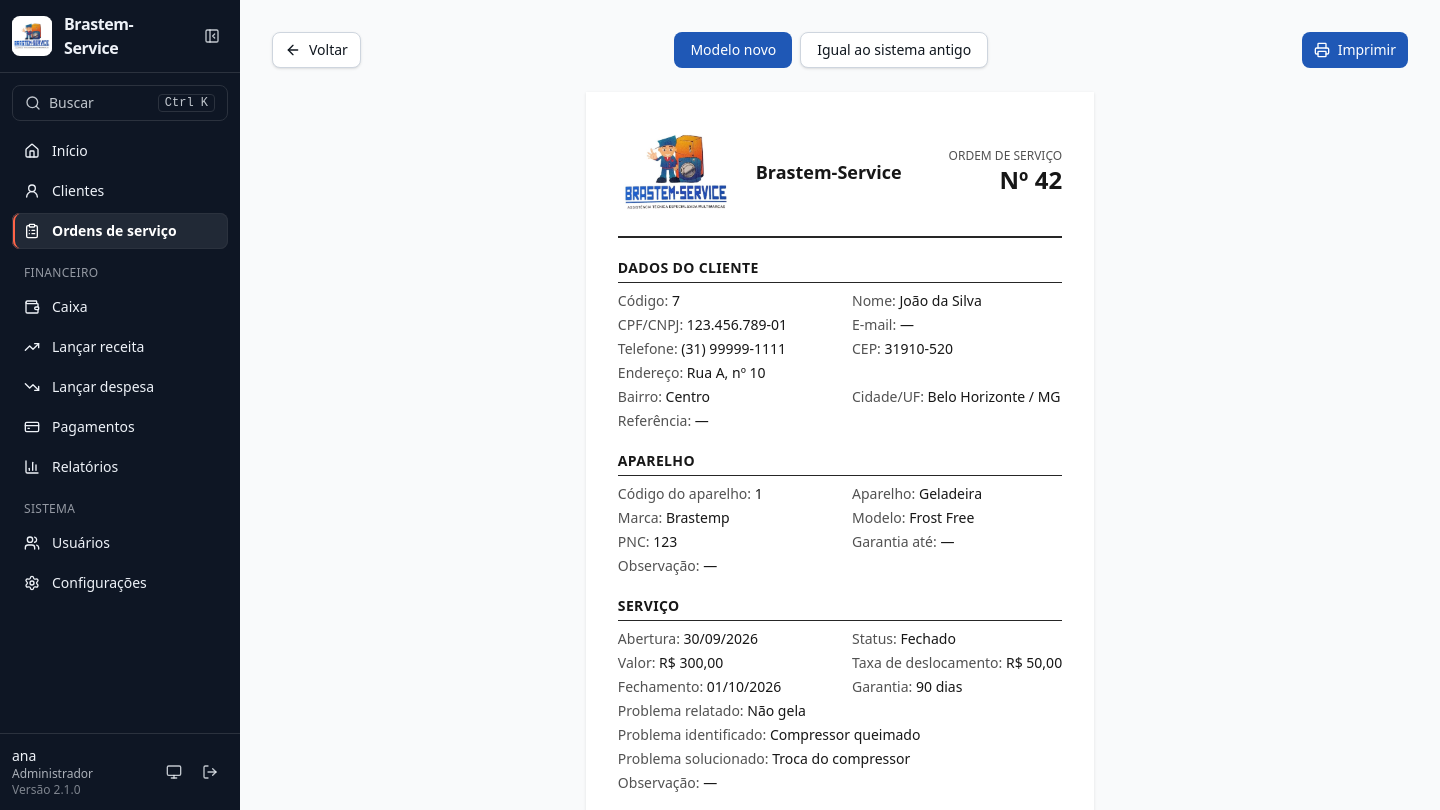
Test case: Ordens de serviço: editar e imprimir › troca para o modelo igual ao antigo na própria página e a escolha fica guardada (R-IMP-03)
Expected: the text "Nº 42" is shown, x1=1000 y1=163 x2=1062 y2=196
Click the button "Igual ao sistema antigo" at coordinates (894, 50), box x1=800 y1=32 x2=988 y2=68
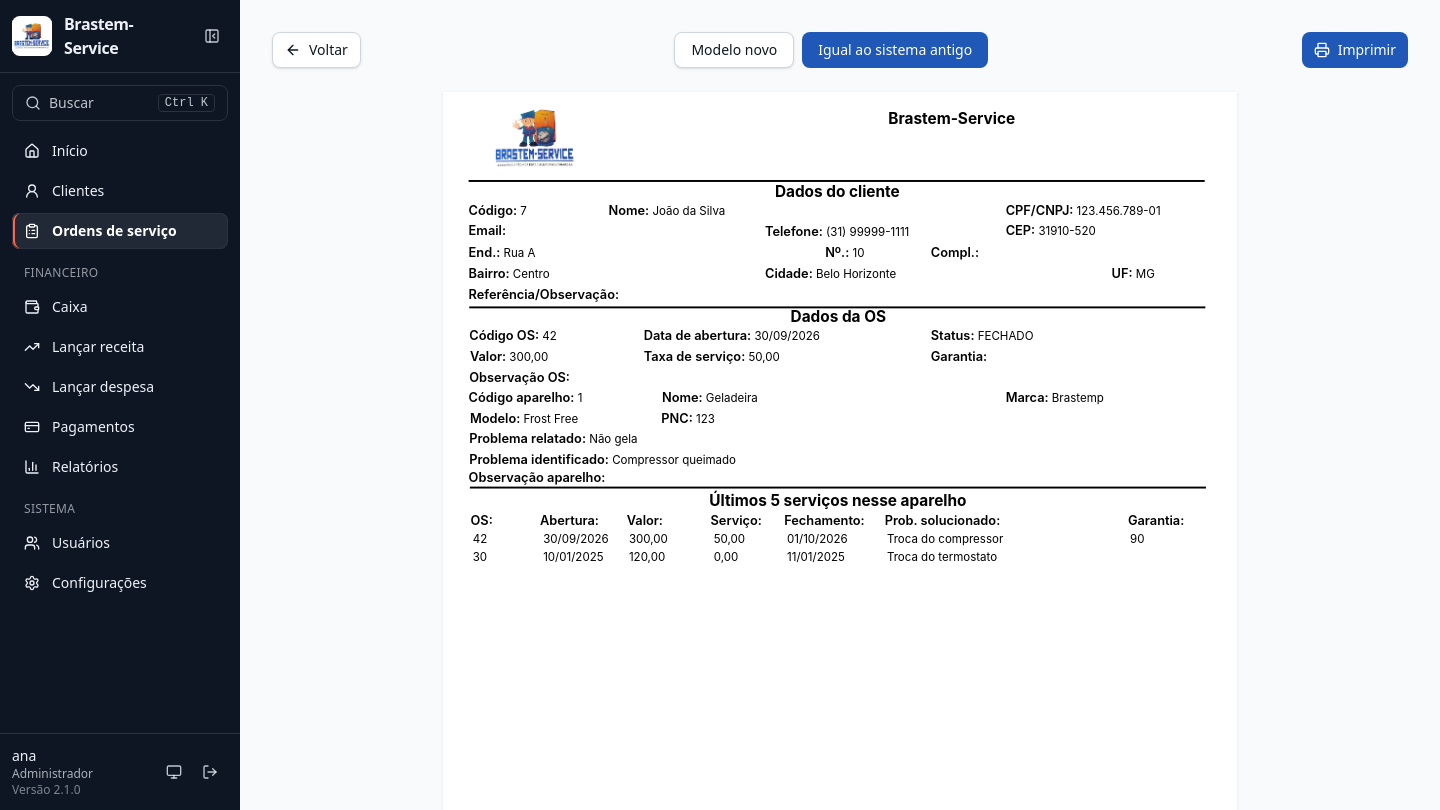
Result: the element named "modelo antigo" is shown at x1=443 y1=92 x2=1237 y2=809
Result: the text "Nº 42" is gone
Click the button "Modelo novo" at coordinates (734, 50), box x1=674 y1=32 x2=794 y2=68
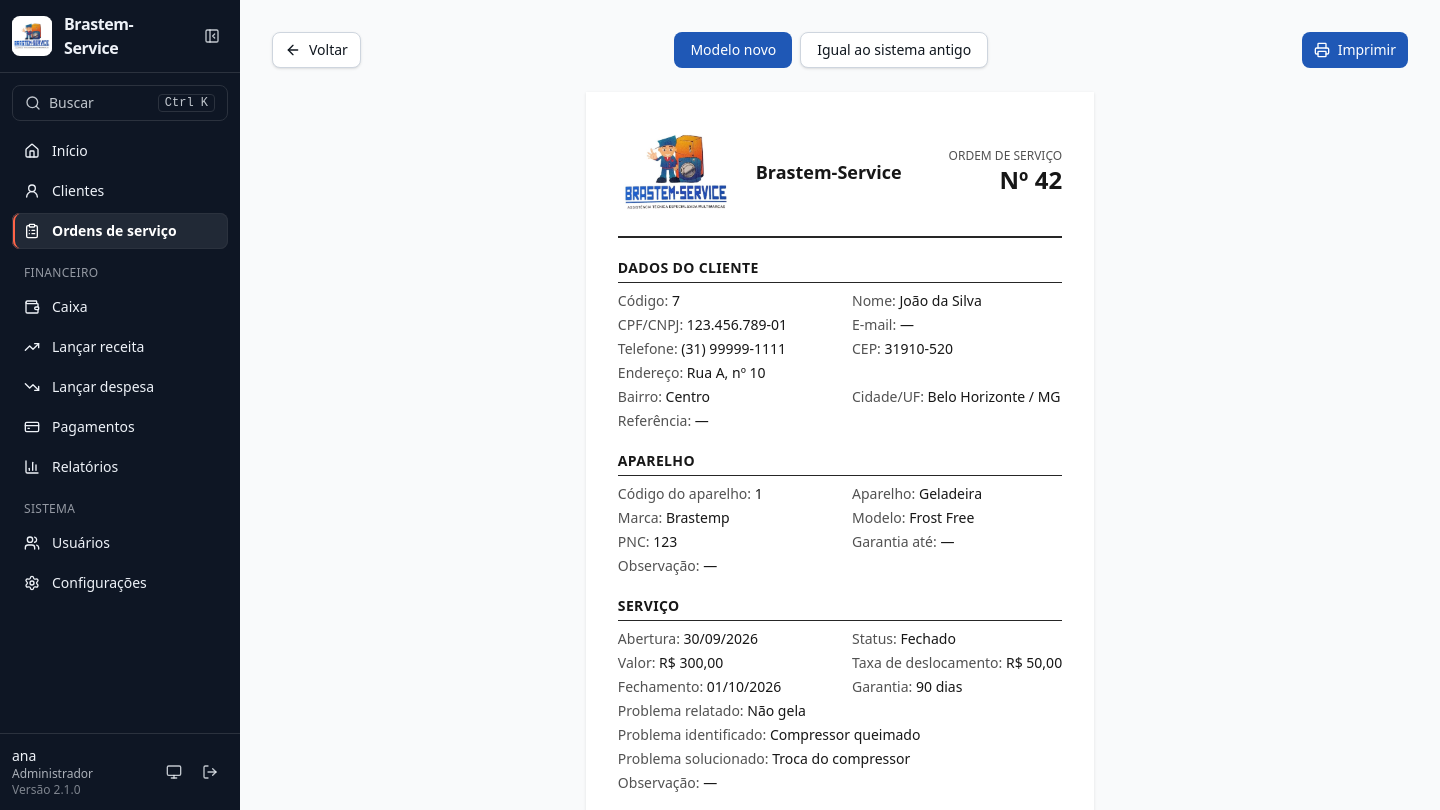
Result: the text "Nº 42" is shown at x1=1000 y1=163 x2=1062 y2=196
